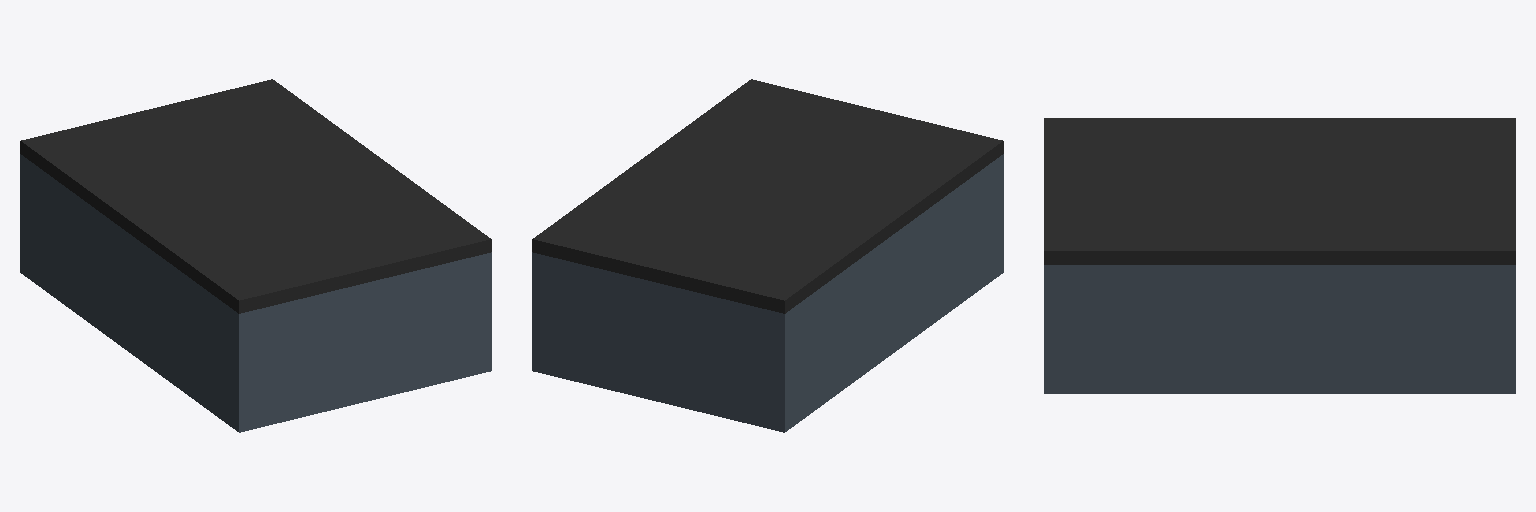
The robot description file, URDF, robot "plank":
<?xml version="0.0" ?>
<robot name="plank">
    <link name="base">
        <contact>
            <lateral_friction value="0.8"/>
        </contact>
        <inertial>
            <origin rpy="0 0 0" xyz="0 0 -0.275"/>
            <mass value="0"/>
            <inertia ixx="1" ixy="0" ixz="0" iyy="1" iyz="0" izz="1"/>
        </inertial>
        <visual>
            <origin rpy="0 0 0" xyz="0 0 -0.275"/>
            <geometry>
                <box size="1 1.5 0.45"/>
            </geometry>
            <material name="grey">
                <color rgba="0.345 0.388 0.431 1"/>
            </material>
        </visual>
        <collision>
            <origin rpy="0 0 0" xyz="0 0 -0.275"/>
            <geometry>
                <box size="1 1.5 0.45"/>
            </geometry>
        </collision>
    </link>
    <link name="cover">
        <contact>
            <lateral_friction value="0.8"/>
        </contact>
        <inertial>
            <origin rpy="0 0 0" xyz="0 0 -0.025"/>
            <mass value="0"/>
            <inertia ixx="1" ixy="0" ixz="0" iyy="1" iyz="0" izz="1"/>
        </inertial>
        <visual>
            <origin rpy="0 0 0" xyz="0 0 -0.025"/>
            <geometry>
                <box size="1 1.5 0.05"/>
            </geometry>
            <material name="black">
                <color rgba="0.216 0.216 0.216 1"/>
            </material>
        </visual>
        <collision>
            <origin rpy="0 0 0" xyz="0 0 -0.025"/>
            <geometry>
                <box size="1 1.5 0.05"/>
            </geometry>
        </collision>
    </link>
    <joint name="base" type="fixed">
        <origin rpy="0 0 0" xyz="0 0 0"/>
        <parent link="base"/>
        <child link="cover"/>
    </joint>
</robot>

--- What the picture shows (computed from the rendered views, not written in the file) ---
The picture shows the robot from 3 angles, left to right: view 1: azimuth 30°, elevation 25°; view 2: azimuth 150°, elevation 25°; view 3: azimuth 270°, elevation 25°; orthographic projection.
Robot: plank — 2 links, 1 joints (1 fixed); root link base; default pose: every joint at zero.
Visible links, largest first — view 1: cover, base; view 2: cover, base; view 3: cover, base.
Link boxes in pixels (x1,y1,x2,y2): cover: (20, 79, 491, 313); base: (20, 154, 491, 432); cover: (532, 79, 1003, 313); base: (532, 154, 1003, 432); cover: (1044, 118, 1515, 264); base: (1044, 265, 1515, 393).
Size in the robot's own frame: 1 by 1.5 by 0.5 metres.
Geometry: primitives only (box / cylinder / sphere), no mesh files.